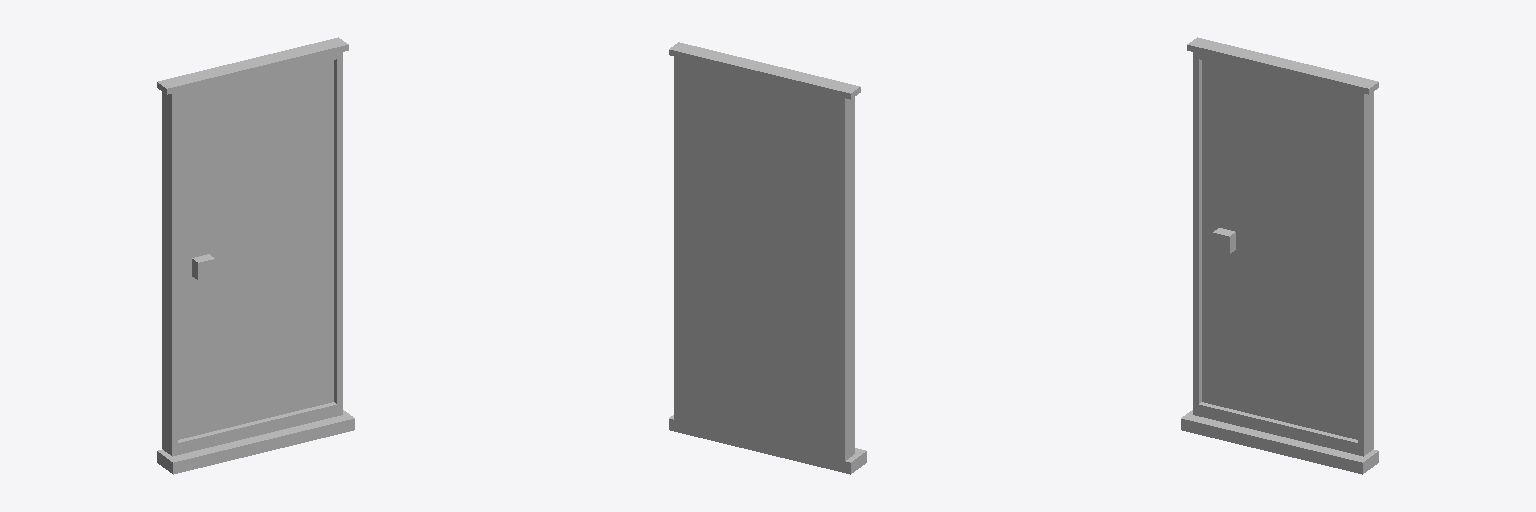
The model's file is door.obj.
3 views of the same model, side by side, from view 1: azimuth 30°, elevation 25°; view 2: azimuth 150°, elevation 25°; view 3: azimuth 330°, elevation 25° (orthographic).
Visible parts, largest first — view 1: object 1; view 2: object 1; view 3: object 1.
Part boxes in pixels (x1,y1,x2,y2): object 1: (157, 37, 354, 474); object 1: (669, 42, 866, 474); object 1: (1181, 37, 1378, 474).
Size of the model in its own units: 3.2 by 6.4 by 0.5.